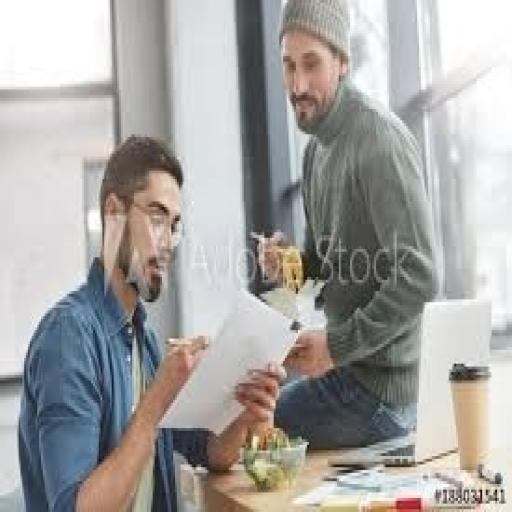eating: (15, 132, 283, 509), (253, 0, 441, 450)
